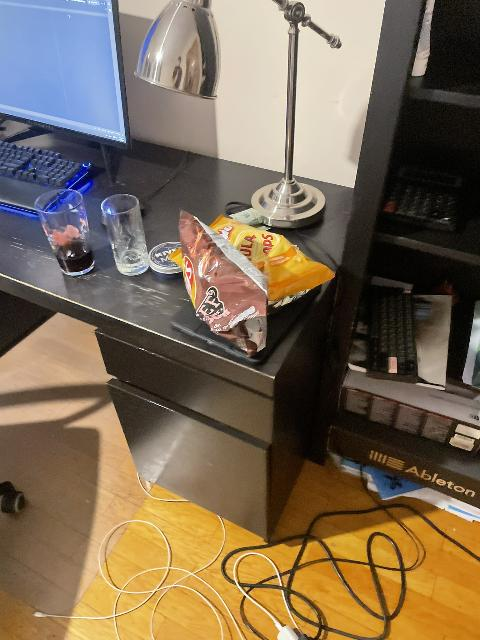Chio Hula Hoops Cheese 70g: (194, 215, 334, 300)
Lays Beef Grilled Ribs 125g: (175, 207, 270, 362)
